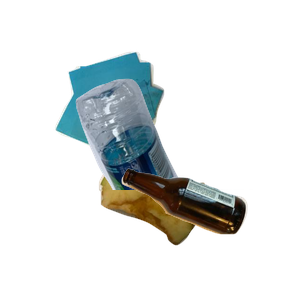glass: (119, 166, 300, 300)
paper: (52, 49, 209, 198)
plastic: (73, 76, 300, 256)
trash: (96, 145, 295, 300)
